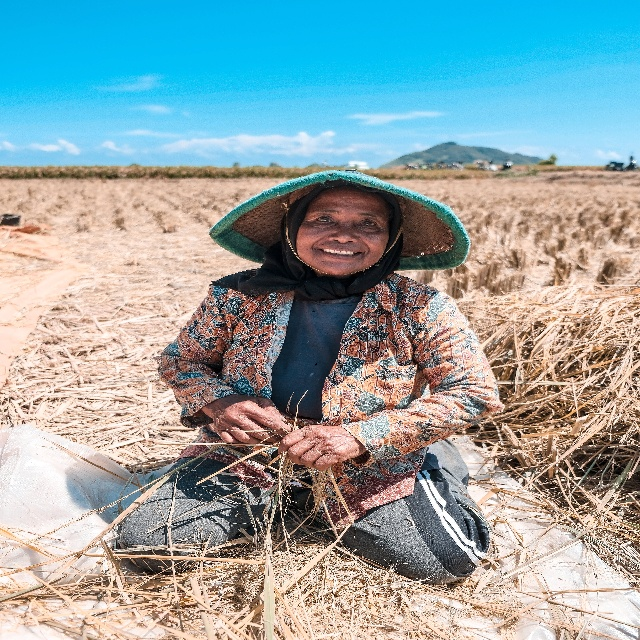Sin_guantes: (211, 393, 293, 446), (277, 422, 359, 472)
